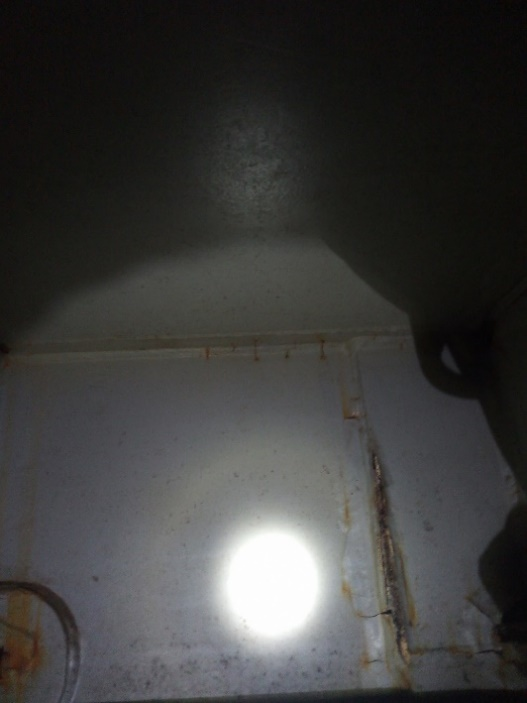corrosion: (357, 422, 424, 674), (0, 436, 54, 688)
